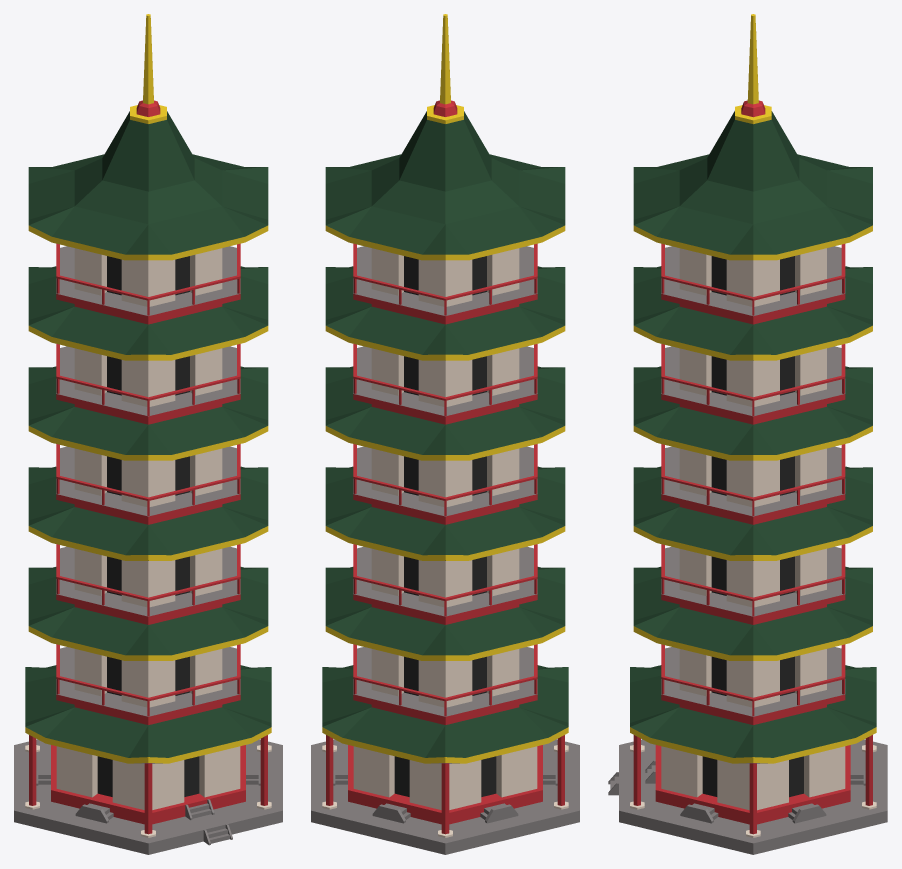
Rendered from buildings_building-pagoda-china.fbx.
3 views of the same model, side by side, from view 1: azimuth 30°, elevation 25°; view 2: azimuth 150°, elevation 25°; view 3: azimuth 270°, elevation 25° (orthographic).
Parts seen in each view (by area): view 1: buildings_building_pagoda_china; view 2: buildings_building_pagoda_china; view 3: buildings_building_pagoda_china.
Part boxes in pixels (left/top/right/bottom): buildings_building_pagoda_china: left=14, top=14, right=282, bottom=854; buildings_building_pagoda_china: left=311, top=14, right=579, bottom=854; buildings_building_pagoda_china: left=608, top=14, right=887, bottom=854.
Bounding box in the file's own units: 72.63 × 200 × 65.39.
